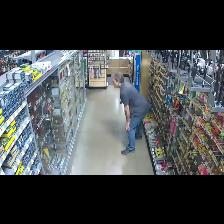person: (112, 73, 149, 154)
